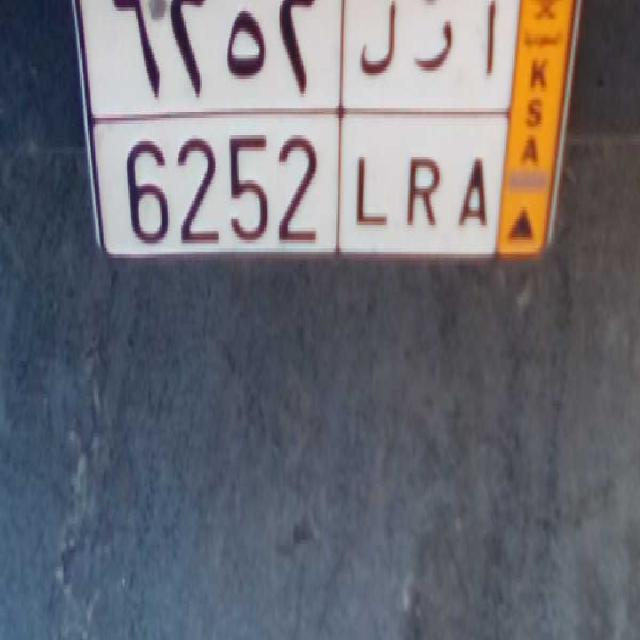license_plate: (94, 112, 502, 260)
